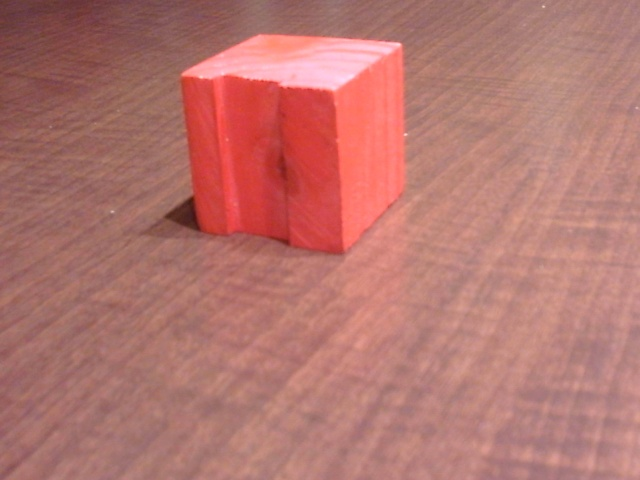RedBlock: (184, 72, 369, 249)
